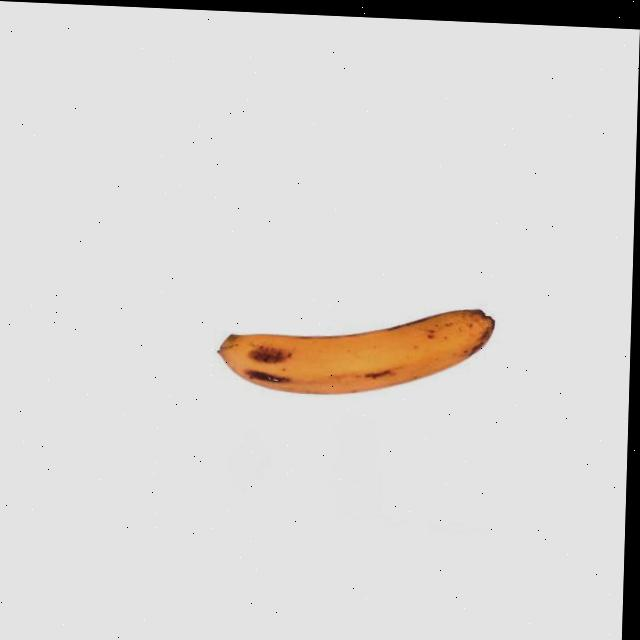banana: (214, 300, 494, 403)
